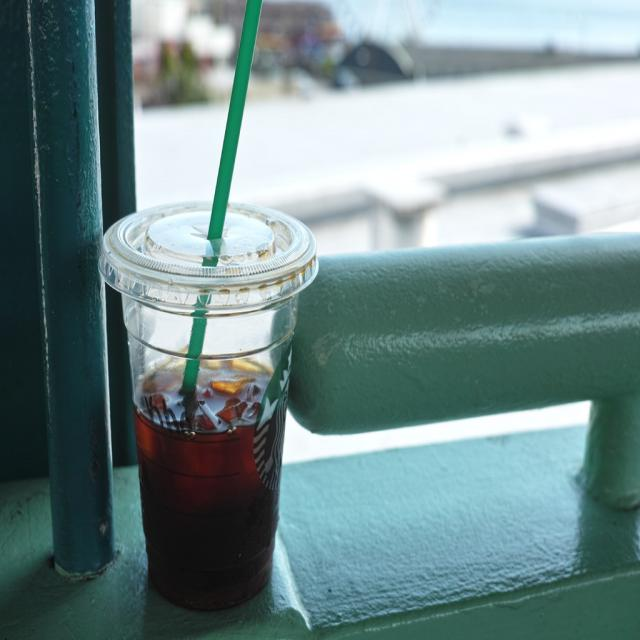Coffee: (133, 354, 279, 618)
